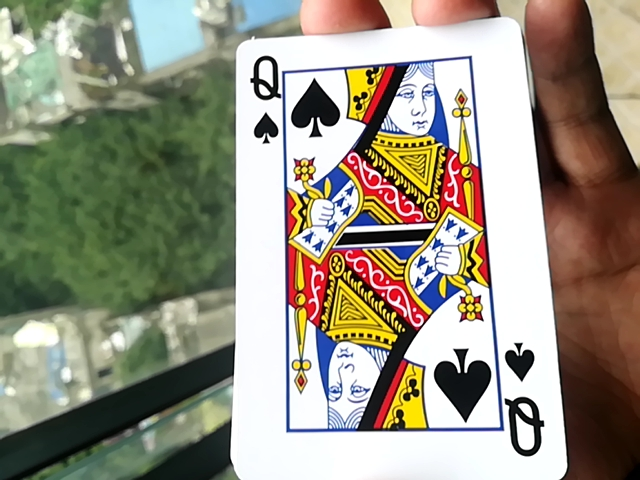ht q: (221, 26, 564, 479)
